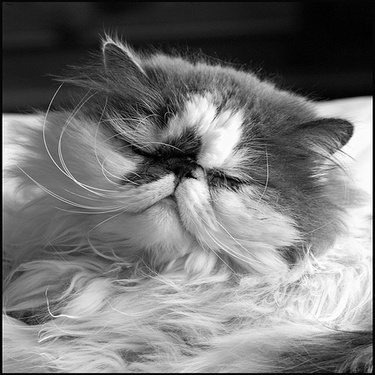cat: (13, 34, 363, 346)
